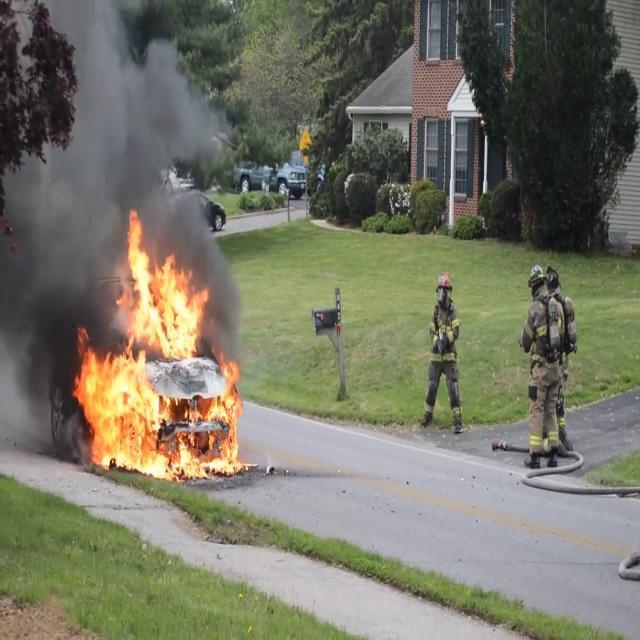Fire: (72, 214, 245, 481)
Smoke: (0, 0, 235, 331)
